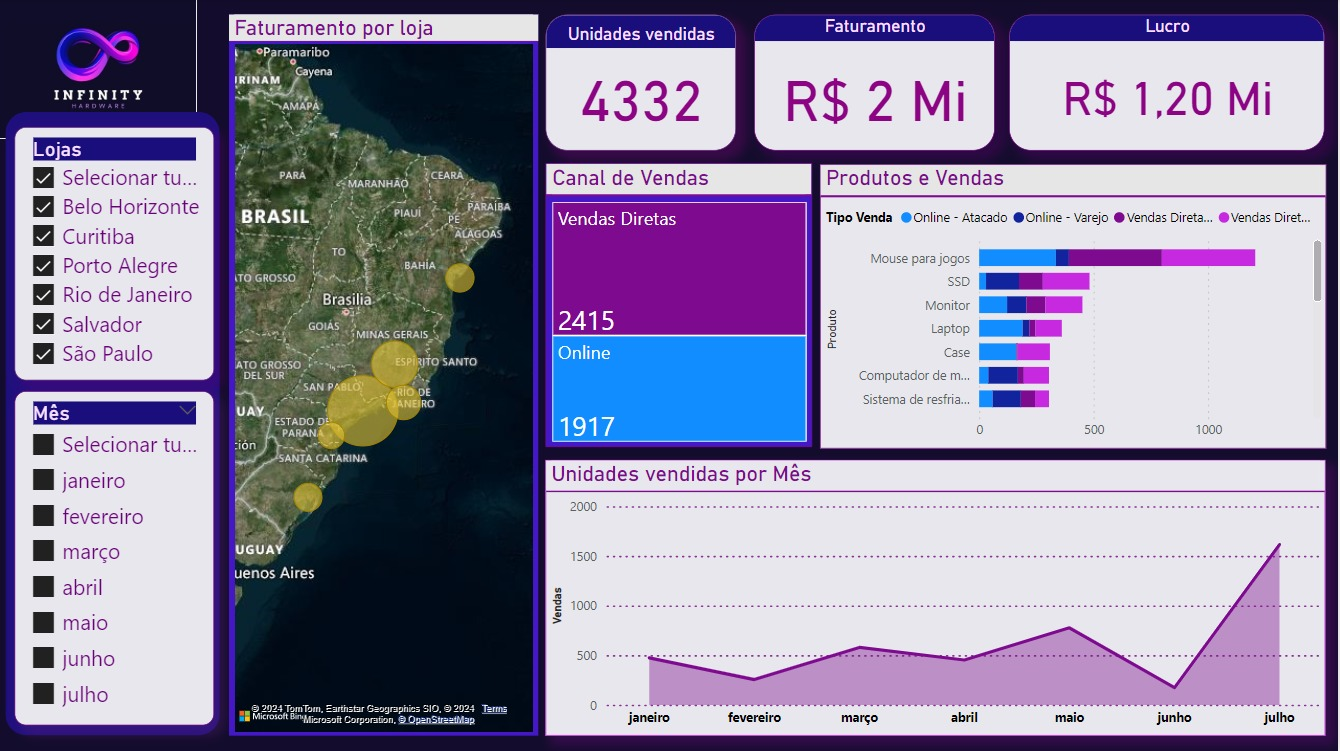

The page's visual inventory and layout, read from the dashboard file:
{"tool":"powerbi","page":{"name":"Vendas","canvas":[1280,720],"ordinal":1},"visuals":[{"type":"card","title":"Faturamento","fields":{"Values":["Sales.Total Revenue"]},"box":[720.8,62.1,249.8,104.5],"z":0},{"type":"areaChart","title":"Unidades vendidas por Mês","fields":{"Category":["CalendarTable.MonthName"],"Y":["Sum(Sales.Unidades vendidas)"]},"box":[522.8,446.9,744.8,263.6],"z":1000},{"type":"card","title":"Unidades vendidas","fields":{"Values":["Sum(Sales.Unidades vendidas)"]},"box":[522.8,61.6,183.3,104.6],"z":2000},{"type":"card","title":"Lucro","fields":{"Values":["Sales.Profit"]},"box":[985.7,62.1,281.6,104.5],"z":3000},{"type":"treemap","title":"Canal de Vendas","fields":{"Group":["Sales.Canal de Vendas"],"Values":["Sum(Sales.Unidades vendidas)"]},"box":[522.4,172.6,254.4,262],"z":4000},{"type":"barChart","title":"Produtos e Vendas","fields":{"Category":["Sales.Produto"],"Y":["Sum(Sales.Unidades vendidas)"],"Series":["Sales.Canal_Tipo_Venda"]},"box":[784.4,172.6,483,263.5],"z":5000},{"type":"image","box":[7.2,0,190.5,97.4],"z":6000},{"type":"map","title":"Faturamento por loja","fields":{"Category":["Sales.Store"],"Size":["Sum(Sales.Vendas Totais)"]},"box":[218,7.6,295.3,705.6],"z":7000},{"type":"shape","box":[7.2,97.4,204.8,613.1],"z":8000},{"type":"slicer","fields":{"Values":["Sales.Store"]},"box":[15.8,114.6,190.5,242.1],"z":9000},{"type":"slicer","title":"Mês","fields":{"Values":["CalendarTable.MonthName"]},"box":[15.1,375.5,190.8,319.5],"z":10000},{"type":"shape","box":[522.4,7.6,745,48],"z":11000},{"type":"slicer","fields":{"Values":["CalendarTable.Date.Variation.Hierarquia de datas.Ano"]},"box":[1172,6.1,95.4,42.4],"z":12000},{"type":"textbox","box":[1138,11,57.5,30.3],"z":13000},{"type":"image","box":[814.6,0,62.1,40.9],"z":14000},{"type":"textbox","box":[821,33.3,62.1,19.7],"z":15000},{"type":"textbox","box":[925.5,34,90.9,21.2],"z":16000},{"type":"image","box":[939.7,4.9,37.9,37.9],"z":17000},{"type":"image","box":[714.7,0,45.4,43.9],"z":18000},{"type":"textbox","box":[720.8,33.3,39.4,18.2],"z":19000},{"type":"actionButton","box":[705.8,6.2,62.2,48.2],"z":20000},{"type":"actionButton","box":[815,7,60.6,46.6],"z":21000},{"type":"actionButton","box":[917,6.2,90.2,49.7],"z":22000}]}

Visuals, with their boxes in screenshot pixels (x1, y1, x2, y2), scaled from the page's 1280x720 canvas onto the 1340x751 screenshot:
"Faturamento" card: (755,65,1016,174)
"Unidades vendidas por Mês" areaChart: (547,466,1327,741)
"Unidades vendidas" card: (547,64,739,173)
"Lucro" card: (1032,65,1327,174)
"Canal de Vendas" treemap: (547,180,813,453)
"Produtos e Vendas" barChart: (821,180,1327,455)
image: (8,0,207,102)
"Faturamento por loja" map: (228,8,537,744)
shape: (8,102,222,741)
slicer - Sales.Store: (17,120,216,372)
"Mês" slicer: (16,392,216,725)
shape: (547,8,1327,58)
slicer - CalendarTable.Date.Variation.Hierarquia de datas.Ano: (1227,6,1327,51)
textbox: (1191,11,1252,43)
image: (853,0,918,43)
textbox: (859,35,924,55)
textbox: (969,35,1064,58)
image: (984,5,1023,45)
image: (748,0,796,46)
textbox: (755,35,796,54)
actionButton: (739,6,804,57)
actionButton: (853,7,917,56)
actionButton: (960,6,1054,58)
